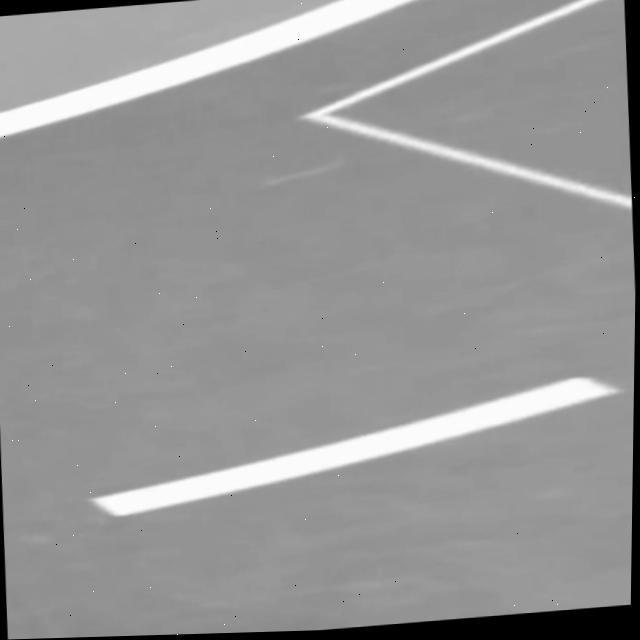center: (90, 377, 619, 515)
left: (0, 0, 414, 136)
